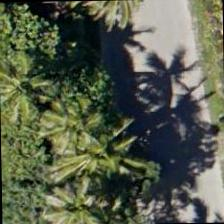Kelapa_Sawit: (31, 79, 123, 172), (62, 109, 154, 201), (0, 37, 69, 129), (30, 168, 123, 223)
